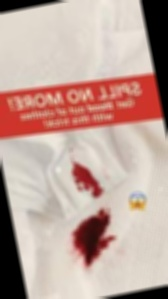blood: (66, 209, 119, 270), (71, 158, 105, 201)
